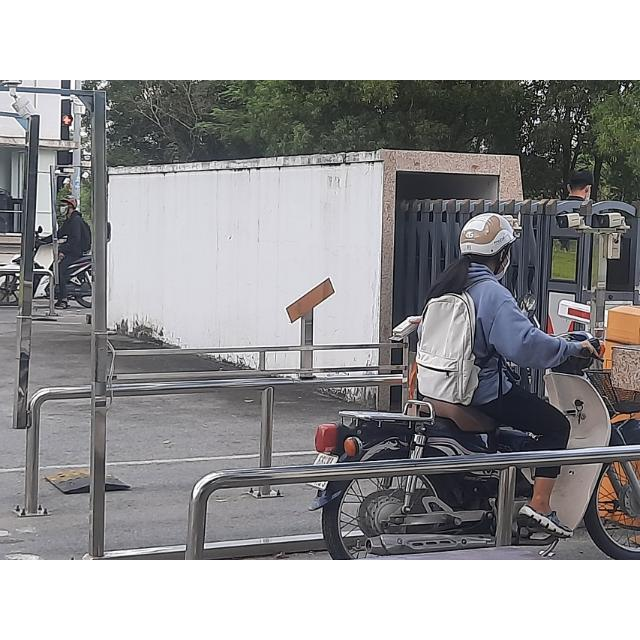Helmet: (459, 212, 521, 270)
